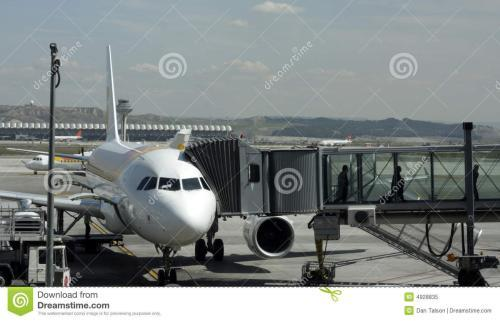airplane: (34, 43, 220, 266)
